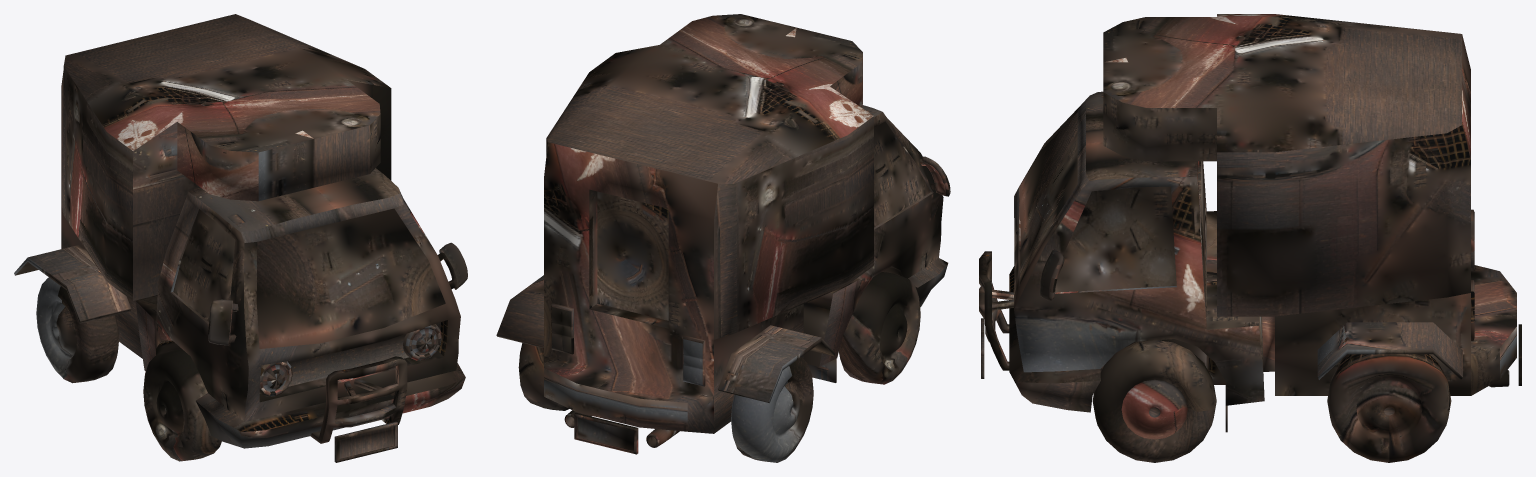
The model's file is Bulky.fbx.
3 views of the same model, side by side, from view 1: azimuth 30°, elevation 25°; view 2: azimuth 150°, elevation 25°; view 3: azimuth 270°, elevation 25° (orthographic). The views are drawn at different scales.
Visible parts, largest first — view 1: Bulky, Wheel_FR, Wheel_RR, Front_Number_Plate; view 2: Bulky, Wheel_FR, Wheel_RR, Rear_Number_Plate, Wheel_RL; view 3: Bulky, Wheel_FL, Wheel_RL.
Boxes of the visible parts, x1=… form: Bulky: x1=14, y1=14, x2=467, y2=448; Wheel_FR: x1=143, y1=349, x2=221, y2=461; Wheel_RR: x1=36, y1=277, x2=118, y2=383; Front_Number_Plate: x1=334, y1=421, x2=397, y2=462; Bulky: x1=496, y1=14, x2=950, y2=447; Wheel_FR: x1=839, y1=272, x2=920, y2=384; Wheel_RR: x1=731, y1=357, x2=813, y2=462; Rear_Number_Plate: x1=574, y1=413, x2=638, y2=454; Wheel_RL: x1=518, y1=343, x2=569, y2=410; Bulky: x1=979, y1=14, x2=1516, y2=412; Wheel_FL: x1=1092, y1=340, x2=1216, y2=462; Wheel_RL: x1=1327, y1=354, x2=1451, y2=462.
Bounding box in the file's own units: 3.93 × 4.25 × 6.19.
